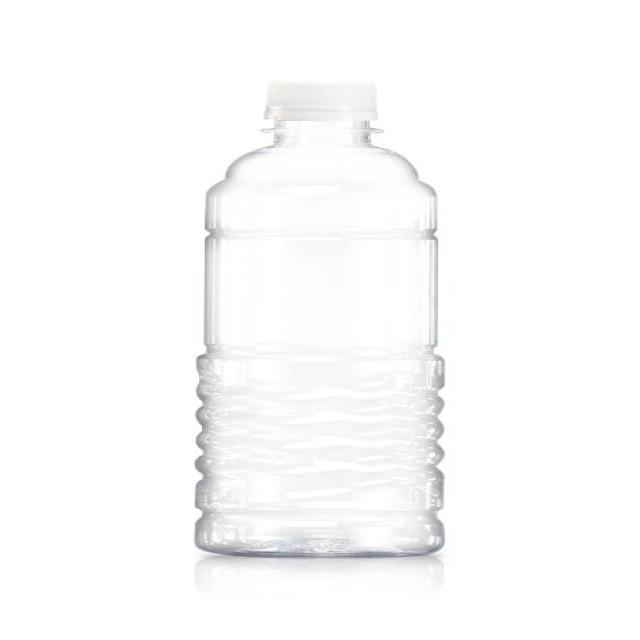bottle: (196, 82, 444, 556)
